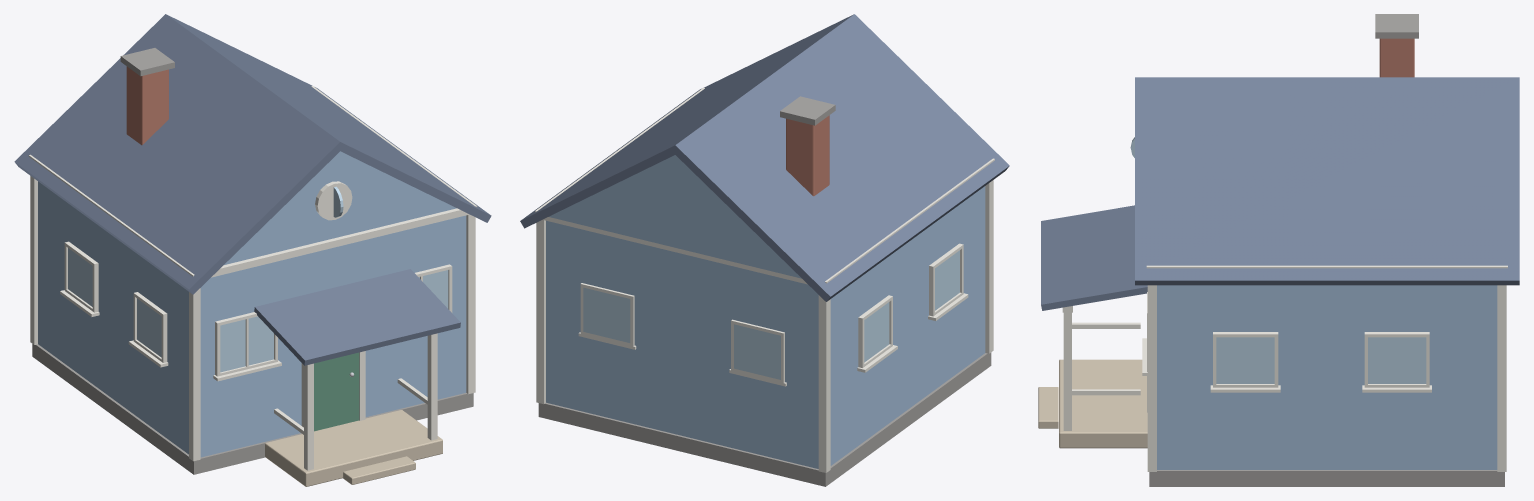
File: HouseBlueModel.glb
3 renders of one model, left to right at view 1: azimuth 30°, elevation 25°; view 2: azimuth 150°, elevation 25°; view 3: azimuth 270°, elevation 25°, orthographic. The views are drawn at different scales.
Visible parts, largest first — view 1: HouseBlueModel; view 2: HouseBlueModel; view 3: HouseBlueModel.
Boxes of the visible parts, box(x1,y1,x2,y2) form: HouseBlueModel: box(14, 14, 491, 486); HouseBlueModel: box(520, 14, 1009, 486); HouseBlueModel: box(1038, 14, 1519, 486).
Bounding box in the file's own units: 6.6 × 6.61 × 8.26.
